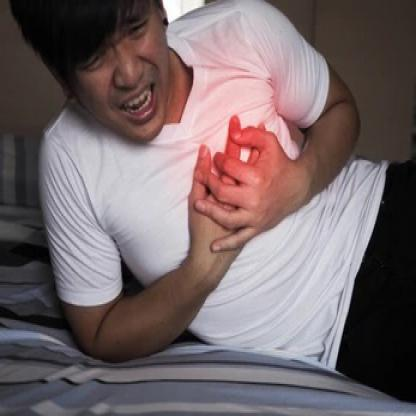pain: (75, 11, 155, 75)
